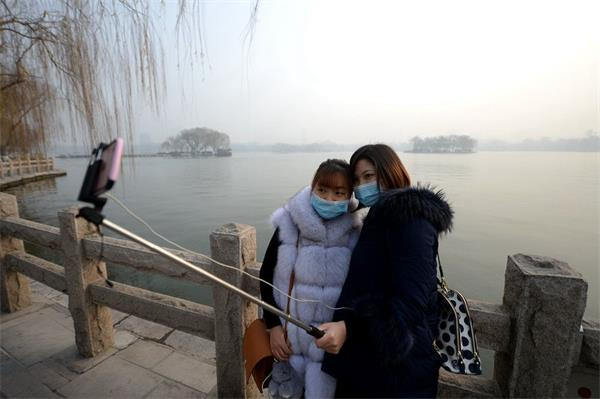face_mask: (313, 175, 349, 218), (355, 159, 384, 206)
